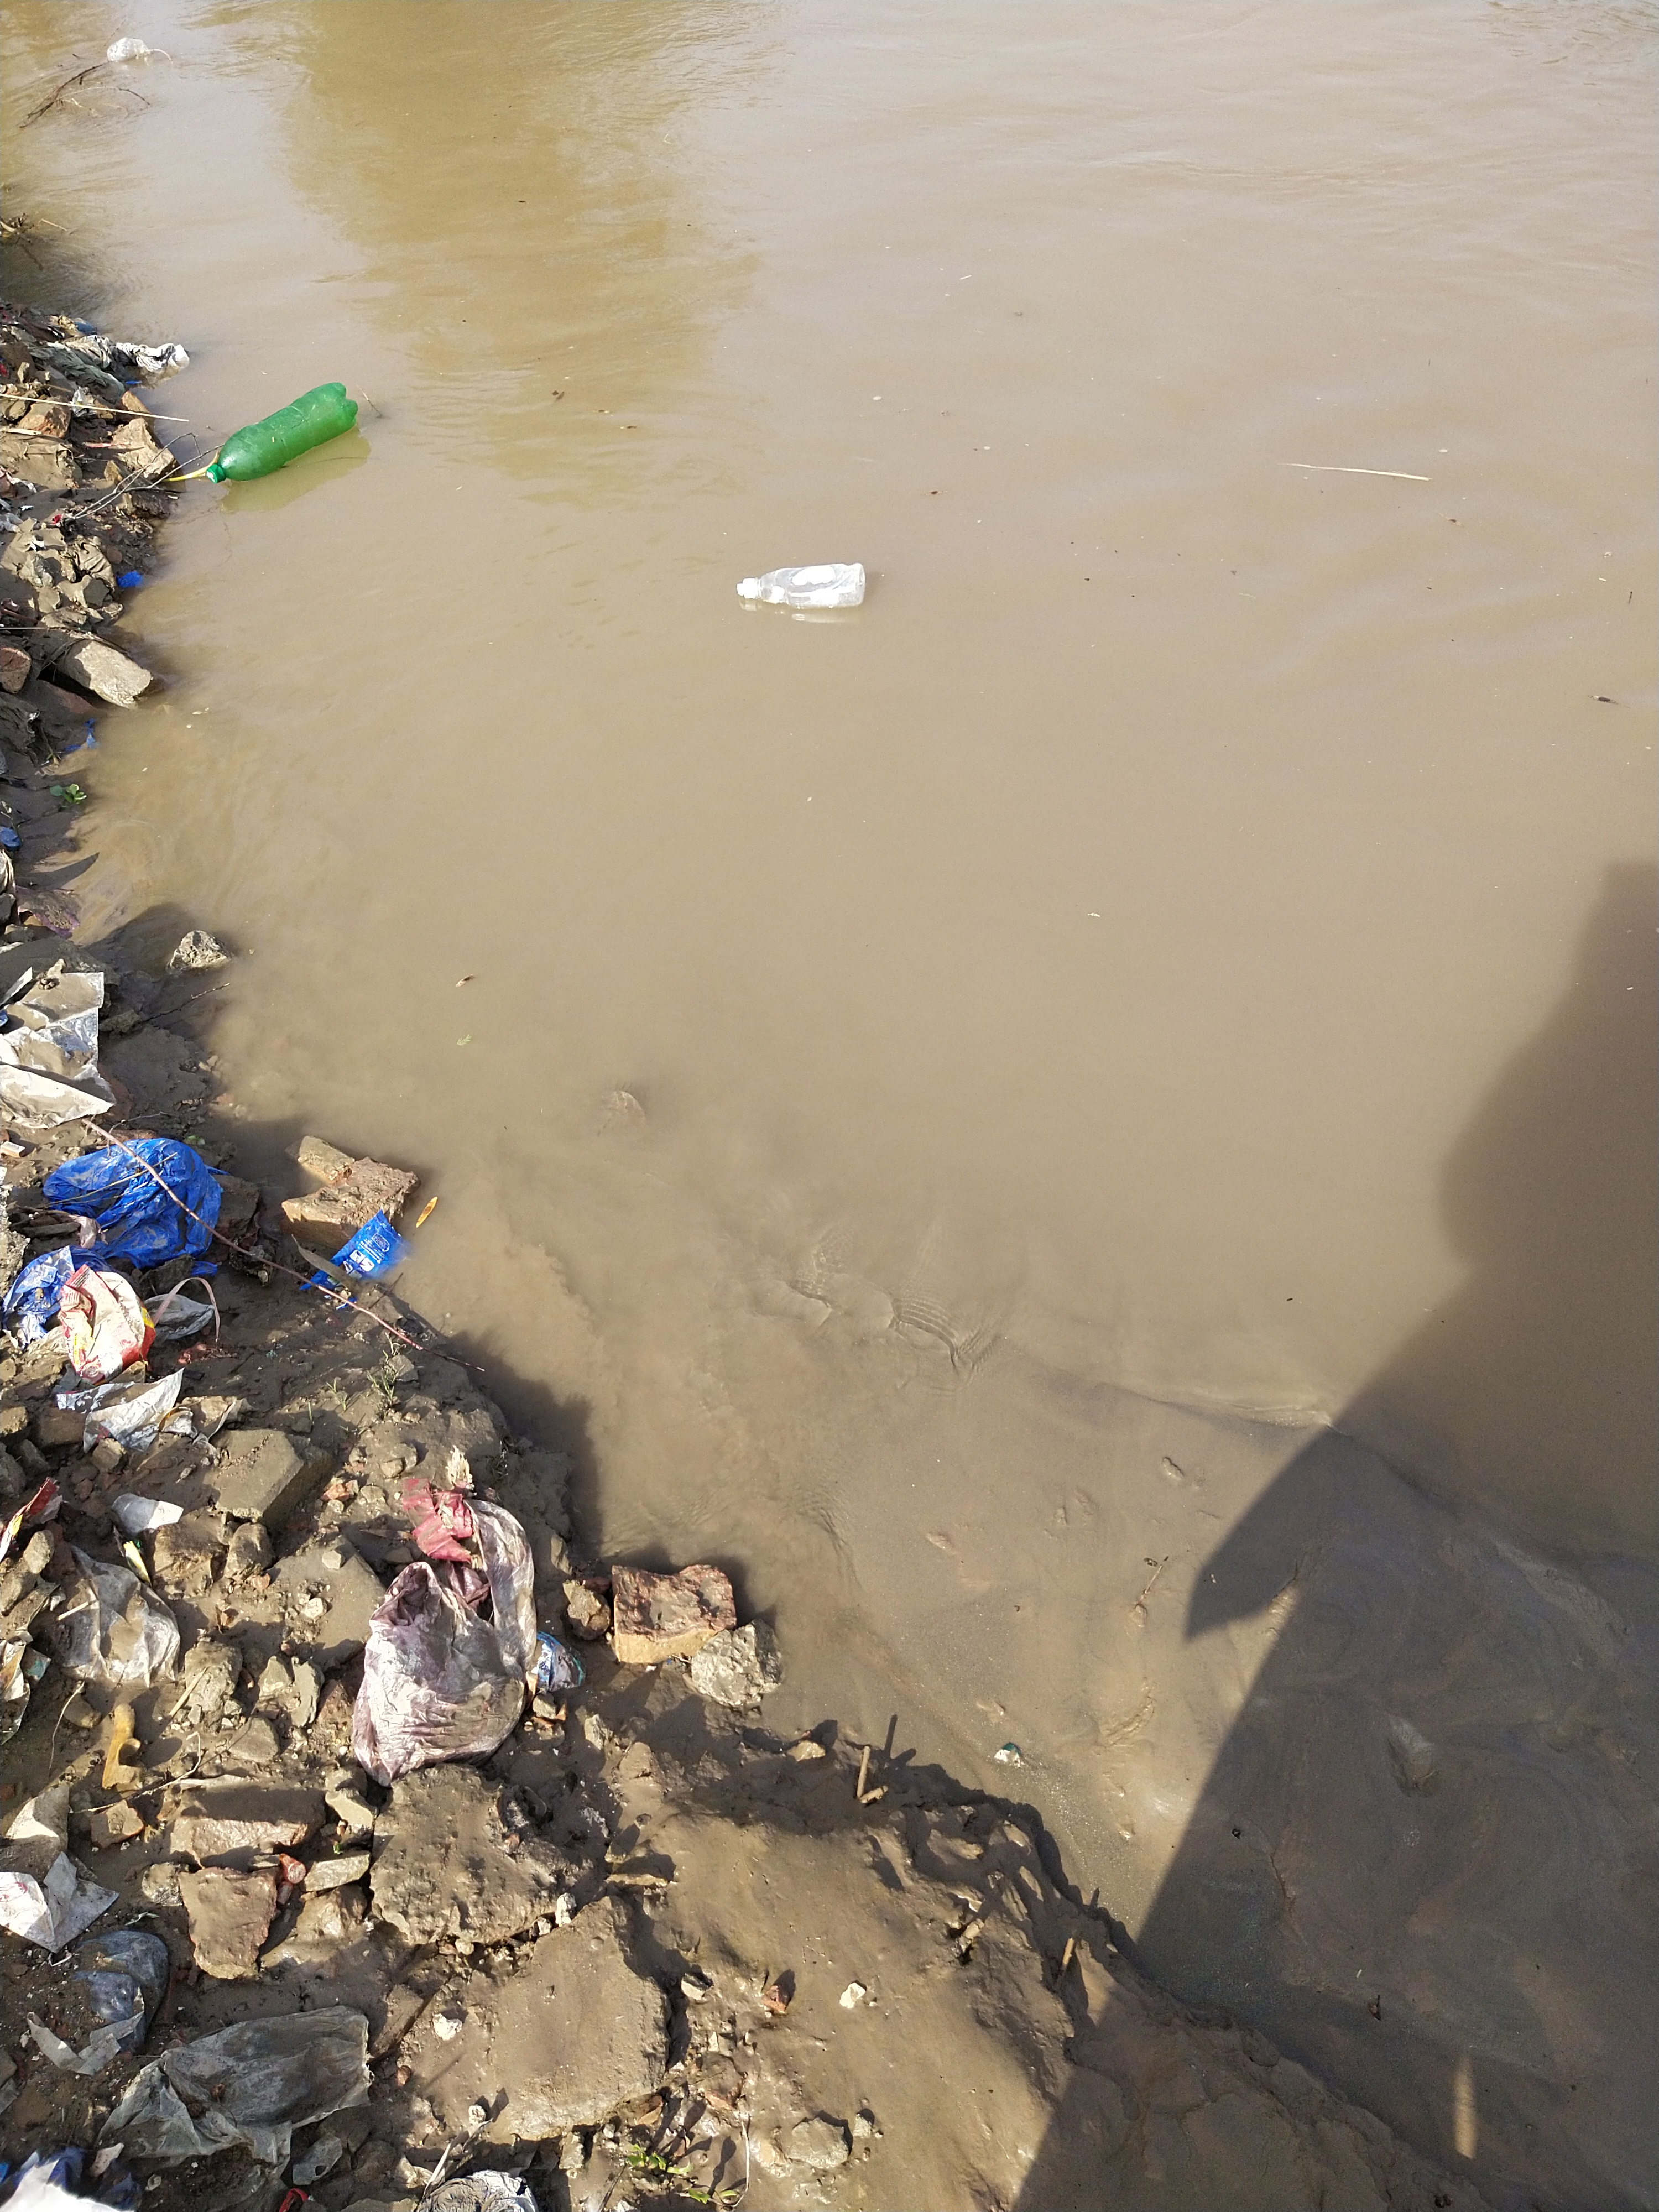Plastic Bottle: (207, 381, 359, 482), (737, 564, 864, 608)
